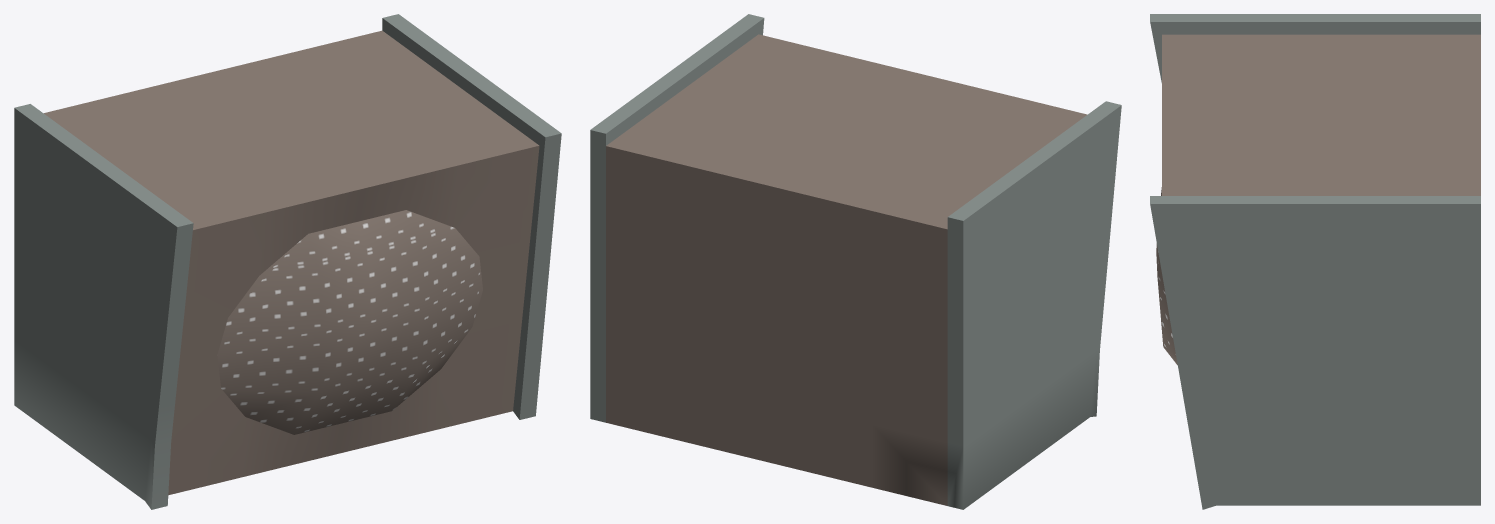
Rendered from Asset_21_Speaker.fbx.
3 renders of one model, left to right at view 1: azimuth 30°, elevation 25°; view 2: azimuth 150°, elevation 25°; view 3: azimuth 270°, elevation 25°, orthographic. The views are drawn at different scales.
Parts seen in each view (by area): view 1: SK_21_Speaker; view 2: SK_21_Speaker; view 3: SK_21_Speaker.
Part boxes in pixels (x1,y1,x2,y2): SK_21_Speaker: (14, 14, 561, 509); SK_21_Speaker: (590, 14, 1121, 509); SK_21_Speaker: (1150, 14, 1480, 509).
Bounding box in the file's own units: 3.51 × 2.64 × 2.58.
